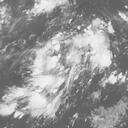cyclone: (33, 37, 97, 96)
